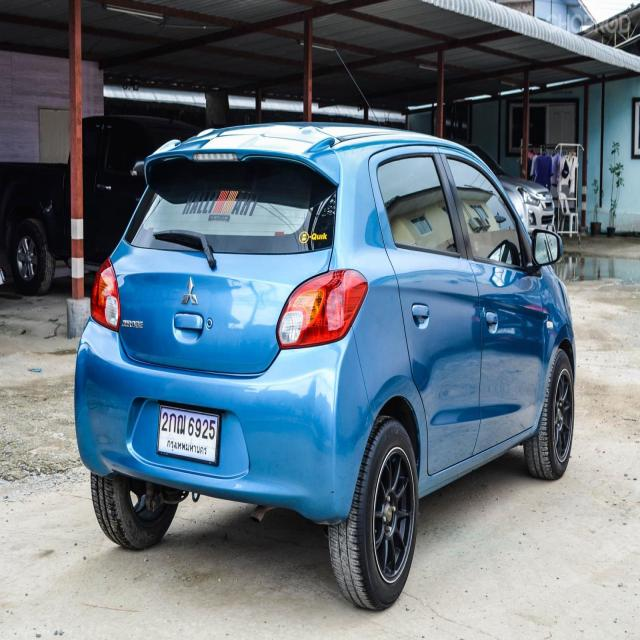license_plate: (154, 400, 223, 470)
